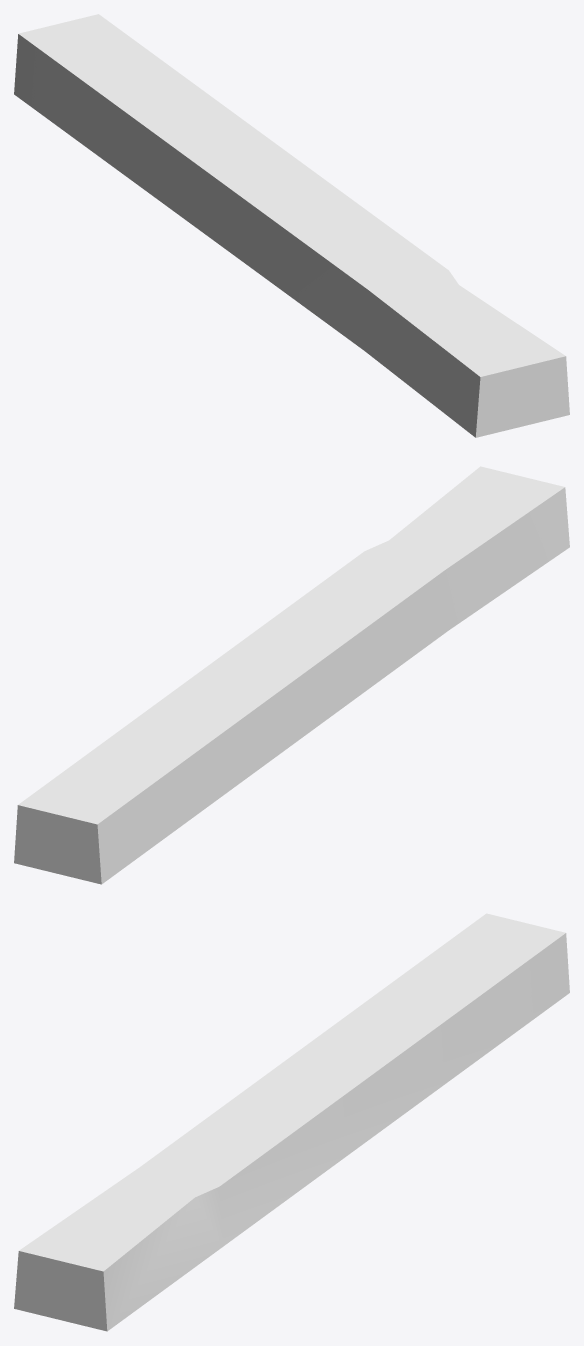
The model's file is map_1002_muban_03.FBX.
3 views of the same model, one above another, from view 1: azimuth 30°, elevation 25°; view 2: azimuth 150°, elevation 25°; view 3: azimuth 330°, elevation 25° (orthographic).
Visible parts, largest first — view 1: map_1002_muban_03; view 2: map_1002_muban_03; view 3: map_1002_muban_03.
Part boxes in pixels (box(x1,y1,x2,y2)): map_1002_muban_03: box(14, 14, 569, 437); map_1002_muban_03: box(14, 466, 569, 884); map_1002_muban_03: box(14, 913, 569, 1331).
Size of the model in its own units: 0.387 by 0.2342 by 3.32.
